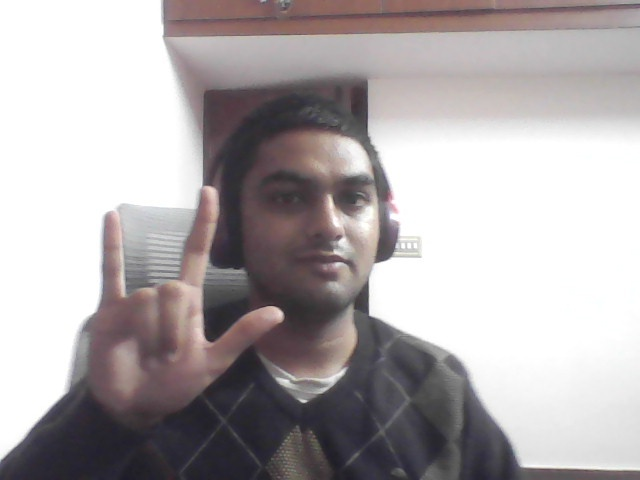I Love You: (67, 182, 290, 421)
